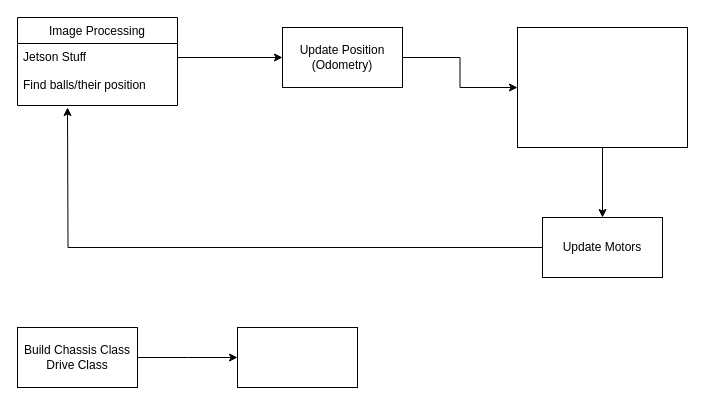
Image size: 705x405. Some labels were removed from this diagram. Each missing label, with the centre of its shape:
"Analyze Game/Robot State Set Movement Targets" belongs at (602,87).
"Test Driving/Movement" belongs at (297,357).
